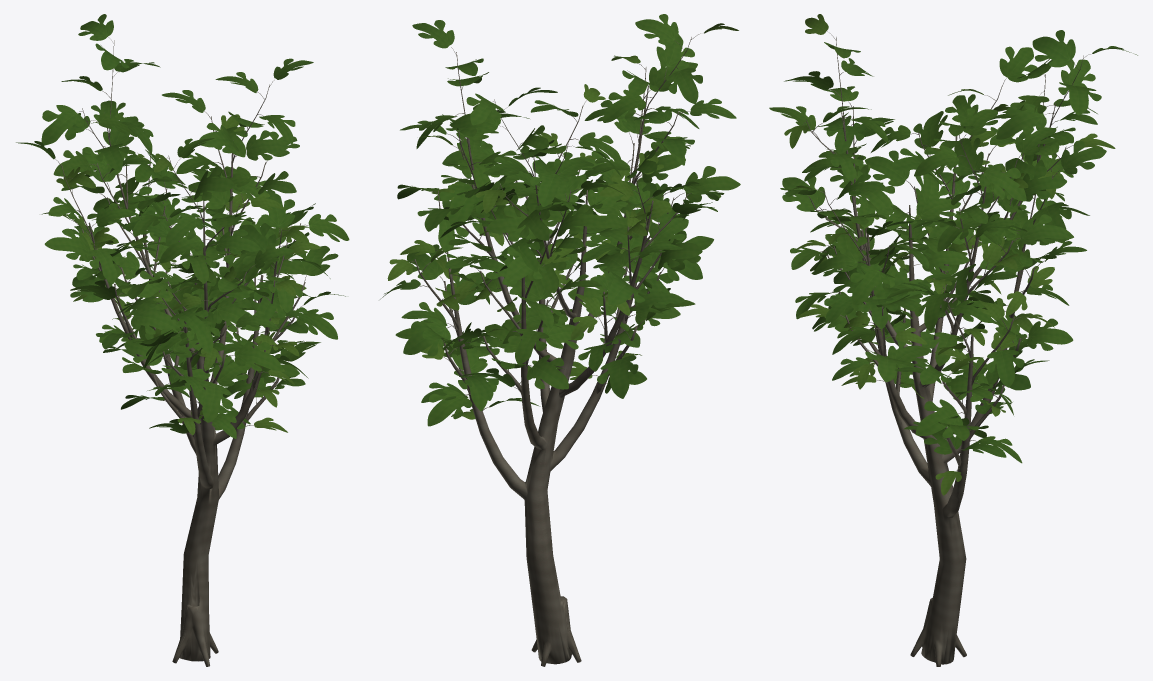
The model's file is fig-central.glb.
3 views of the same model, side by side, from view 1: azimuth 30°, elevation 25°; view 2: azimuth 150°, elevation 25°; view 3: azimuth 270°, elevation 25° (orthographic). The views are drawn at different scales.
Visible parts, largest first — view 1: Fig mature five lobed laminae, Fig trunk branches petioles, Fig young three lobed laminae; view 2: Fig mature five lobed laminae, Fig trunk branches petioles, Fig young three lobed laminae; view 3: Fig mature five lobed laminae, Fig trunk branches petioles, Fig young three lobed laminae.
Boxes of the visible parts, x1=… form: Fig mature five lobed laminae: x1=16, y1=14, x2=349, y2=438; Fig trunk branches petioles: x1=55, y1=37, x2=309, y2=666; Fig young three lobed laminae: x1=41, y1=114, x2=321, y2=435; Fig mature five lobed laminae: x1=380, y1=14, x2=740, y2=426; Fig trunk branches petioles: x1=410, y1=33, x2=700, y2=666; Fig young three lobed laminae: x1=387, y1=23, x2=738, y2=419; Fig mature five lobed laminae: x1=769, y1=30, x2=1137, y2=463; Fig trunk branches petioles: x1=803, y1=31, x2=1092, y2=666; Fig young three lobed laminae: x1=784, y1=14, x2=1115, y2=495.
Size of the model in its own units: 1.97 by 3.66 by 2.02.
3 materials, 3 textured.
